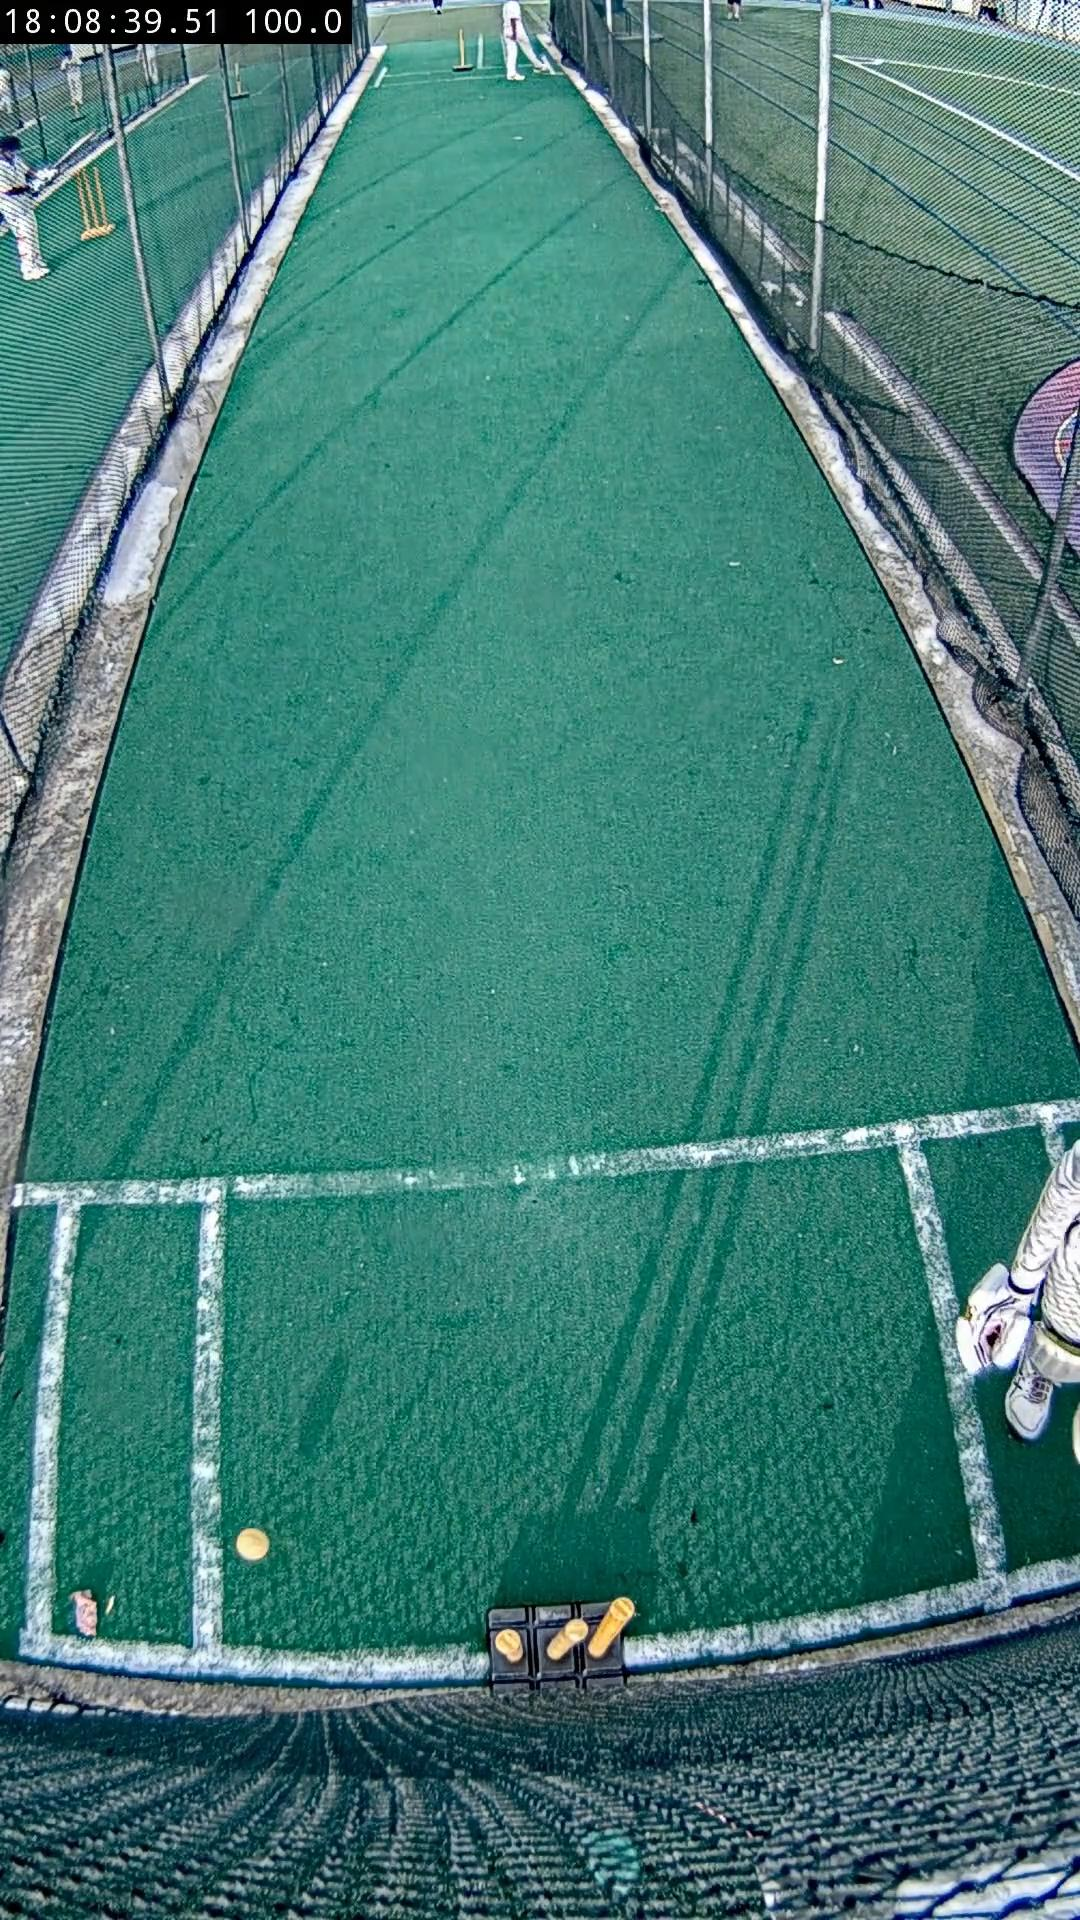ball: (236, 1526, 270, 1560)
stumps: (488, 1597, 634, 1692)
